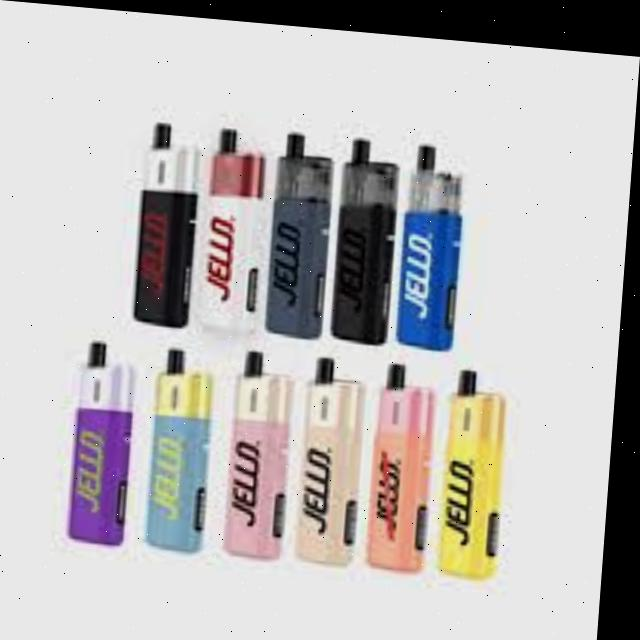vape: (333, 130, 405, 337), (302, 348, 372, 560), (400, 135, 471, 344), (232, 344, 302, 555), (267, 126, 338, 334), (73, 337, 145, 541), (374, 355, 444, 564), (445, 361, 514, 570), (136, 120, 206, 326), (153, 342, 223, 547), (206, 122, 270, 325)
